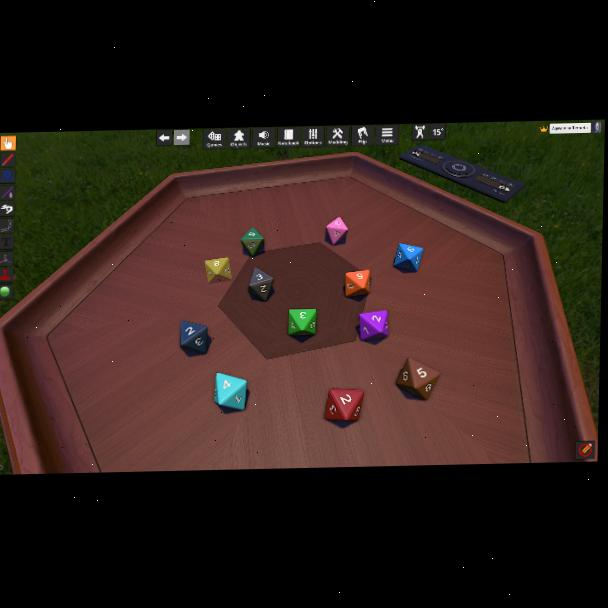d8: (397, 356, 439, 399), (214, 371, 248, 410), (324, 388, 362, 422), (181, 320, 208, 355), (248, 267, 275, 301), (359, 310, 388, 341), (393, 243, 421, 273), (288, 308, 317, 336), (345, 270, 370, 298), (205, 257, 231, 283), (241, 228, 264, 257), (324, 217, 347, 246)
